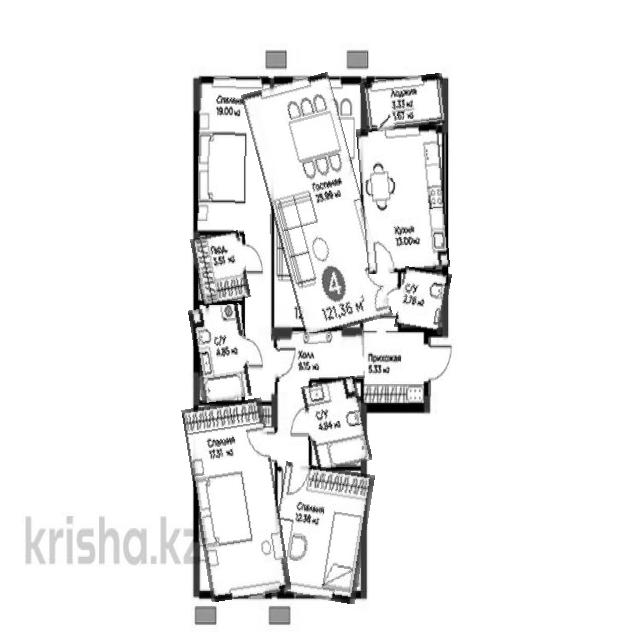balcony: (361, 76, 446, 130), (397, 268, 449, 334)
bathroom: (303, 379, 368, 469), (192, 304, 250, 402)
hallway: (272, 330, 364, 381), (363, 331, 432, 389)
kitchen: (360, 124, 448, 272)
living_room: (256, 76, 378, 334), (189, 400, 284, 600), (271, 464, 370, 601), (197, 78, 272, 234)
other: (193, 232, 249, 304)
